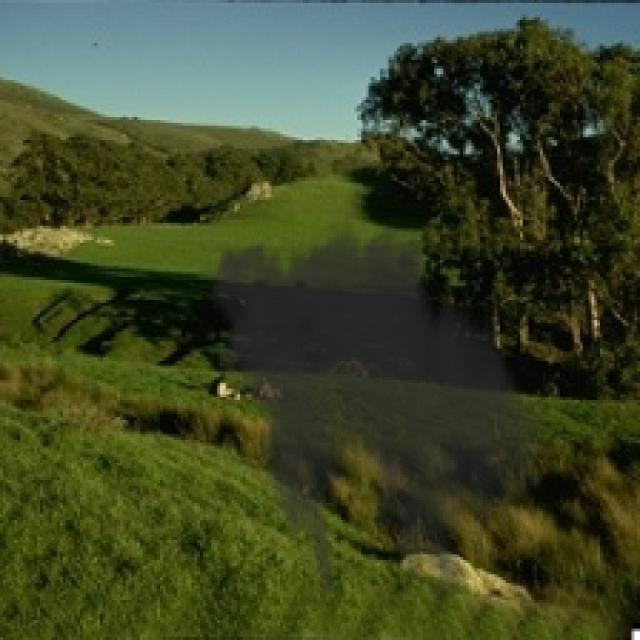smoke: (191, 209, 560, 594)
